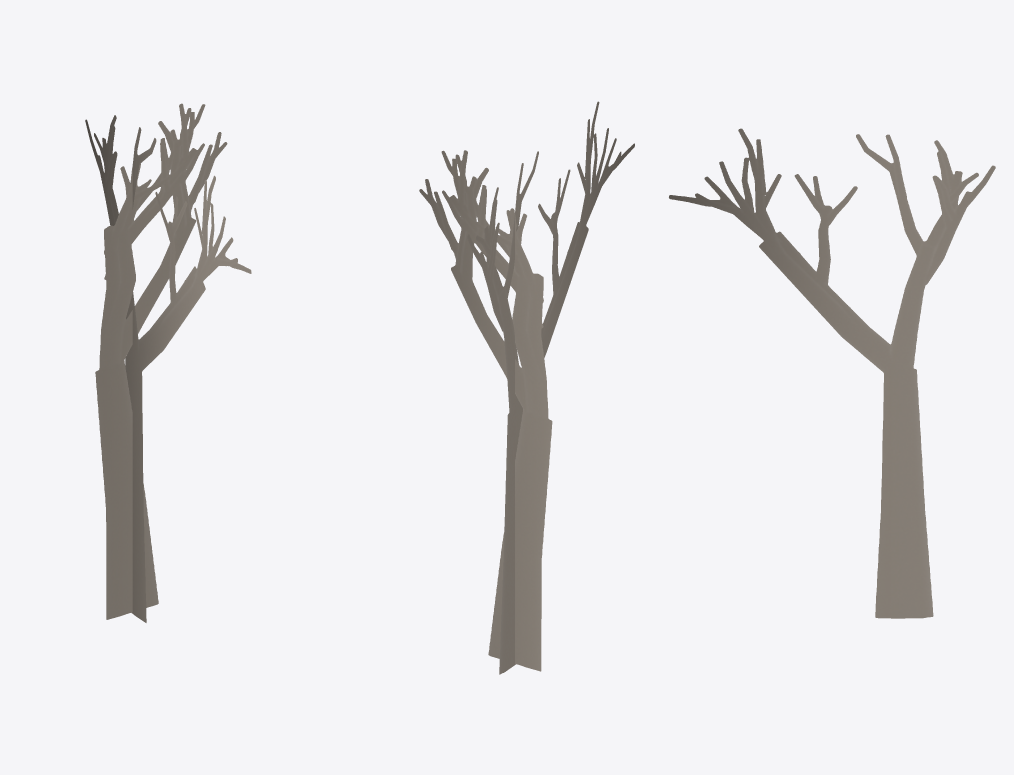
The model's file is dead_tree_2_far.glb.
3 views of the same model, side by side, from view 1: azimuth 30°, elevation 25°; view 2: azimuth 150°, elevation 25°; view 3: azimuth 270°, elevation 25° (orthographic). The views are drawn at different scales.
Parts seen in each view (by area): view 1: dead_tree_2_far; view 2: dead_tree_2_far; view 3: dead_tree_2_far.
Boxes of the visible parts, x1=… form: dead_tree_2_far: x1=85, y1=103, x2=251, y2=622; dead_tree_2_far: x1=419, y1=101, x2=634, y2=674; dead_tree_2_far: x1=669, y1=128, x2=995, y2=618.
Size of the model in its own units: 3.86 by 7.72 by 3.86.
1 material, 1 textured.
